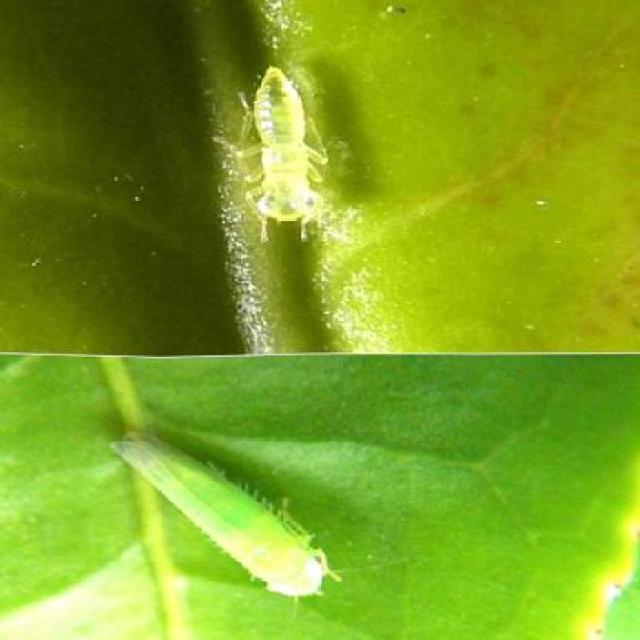green-leafhopper: (111, 430, 338, 604), (216, 60, 342, 248)
